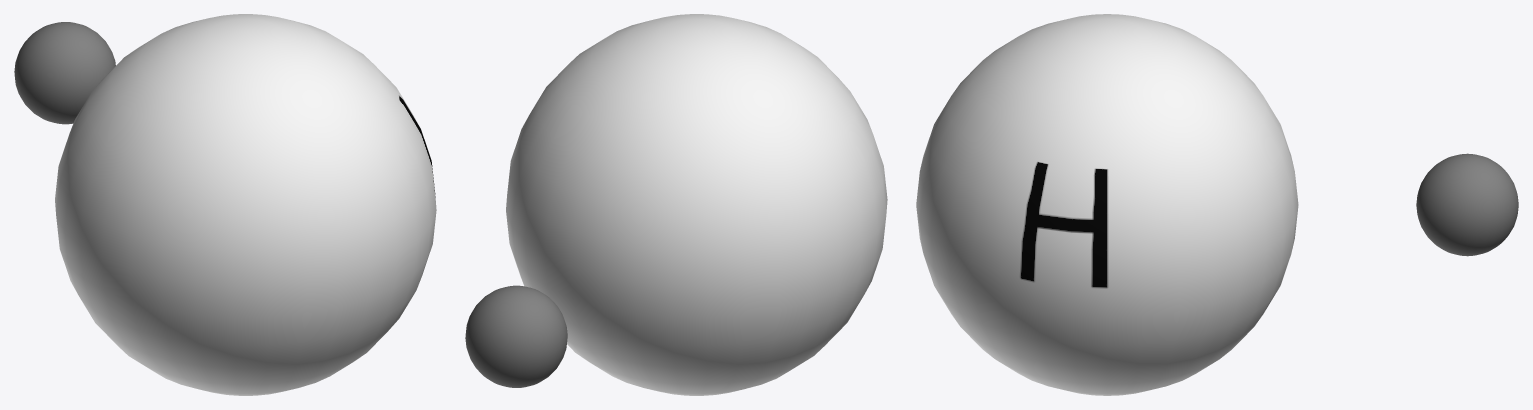
Rendered from HydrogenModel.gltf.
3 renders of one model, left to right at view 1: azimuth 30°, elevation 25°; view 2: azimuth 150°, elevation 25°; view 3: azimuth 270°, elevation 25°, orthographic.
Parts seen in each view (by area): view 1: Sphere.001, Sphere; view 2: Sphere.001, Sphere; view 3: Sphere.001, Sphere.
Boxes of the visible parts, left/top/right/bottom form: Sphere.001: left=55, top=14, right=436, bottom=395; Sphere: left=14, top=22, right=115, bottom=124; Sphere.001: left=506, top=14, right=887, bottom=395; Sphere: left=465, top=285, right=567, bottom=387; Sphere.001: left=916, top=14, right=1298, bottom=395; Sphere: left=1416, top=153, right=1518, bottom=256.
Size of the model in its own units: 2 by 2 by 3.15.
2 materials, 1 textured.
